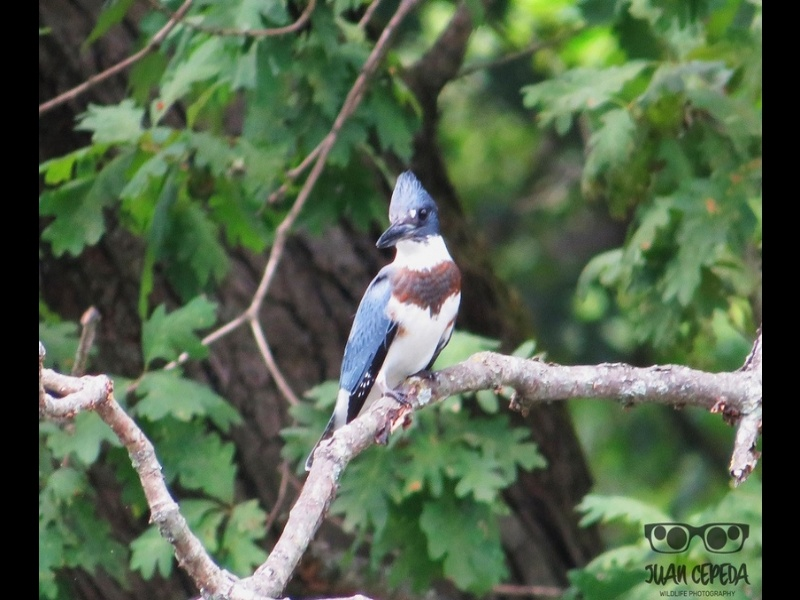kingfisher: (304, 168, 463, 480)
